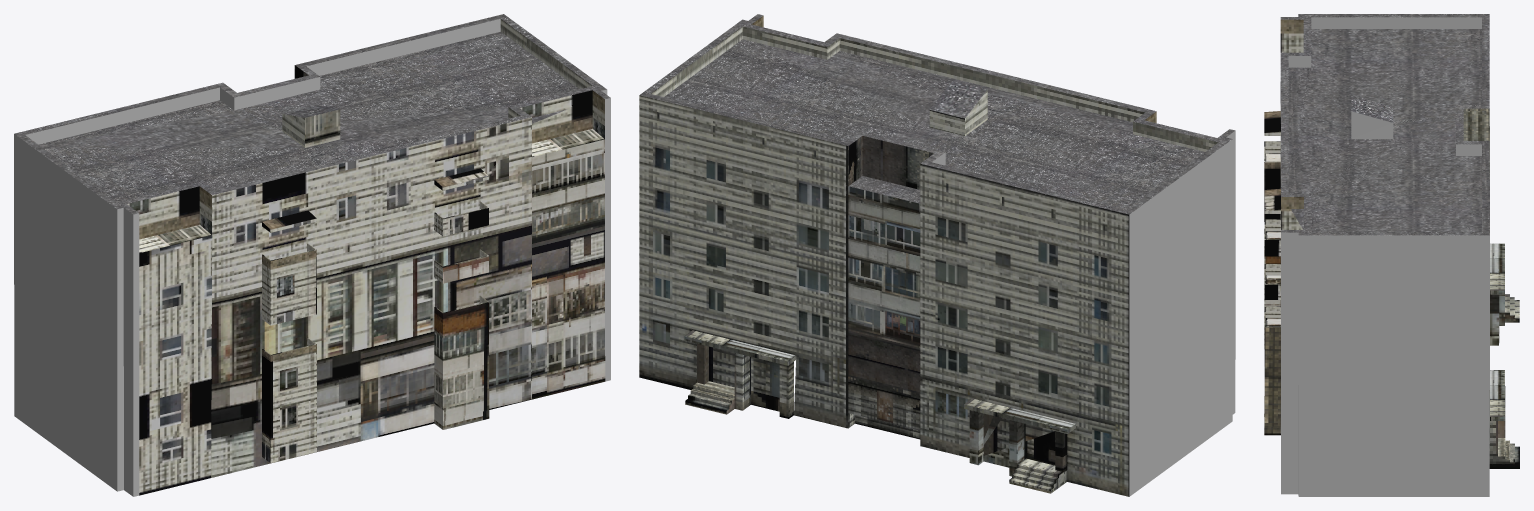
Rendered from pixHrush.fbx.
3 renders of one model, left to right at view 1: azimuth 30°, elevation 25°; view 2: azimuth 150°, elevation 25°; view 3: azimuth 270°, elevation 25°, orthographic. The views are drawn at different scales.
Visible parts, largest first — view 1: 5tietazhka2; view 2: 5tietazhka2; view 3: 5tietazhka2.
Part boxes in pixels (box(x1,y1,x2,y2)): 5tietazhka2: box(14, 14, 610, 496); 5tietazhka2: box(639, 14, 1235, 496); 5tietazhka2: box(1264, 14, 1519, 496).
Size of the model in its own units: 3205 by 1876 by 1564.
